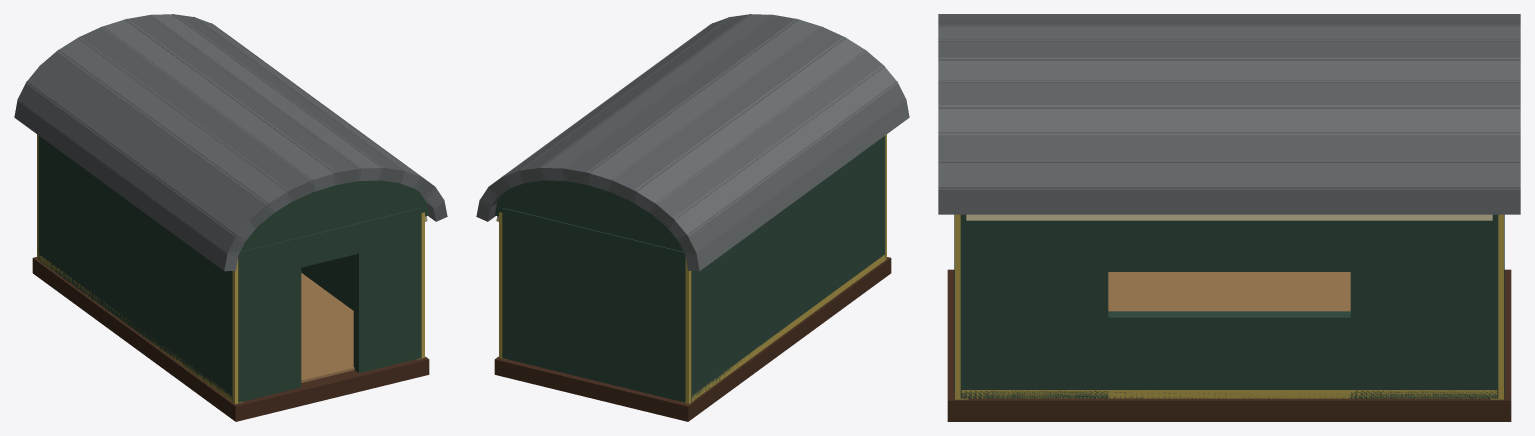
Rendered from kibitka-body.glb.
The picture shows the model from 3 angles, left to right: view 1: azimuth 30°, elevation 25°; view 2: azimuth 150°, elevation 25°; view 3: azimuth 270°, elevation 25°; orthographic projection. The views are drawn at different scales.
Visible parts, largest first — view 1: Крыша, Стены, Днище, Торцы под крышей, Пол, Рейки; view 2: Крыша, Стены, Днище, Торцы под крышей, Рейки; view 3: Крыша, Стены, Днище, Пол, Рейки, Подшивка крыши.
Part boxes in pixels (box(x1,y1,x2,y2)): Крыша: box(14, 14, 447, 271); Стены: box(38, 136, 421, 402); Днище: box(32, 257, 429, 421); Торцы под крышей: box(240, 180, 429, 251); Пол: box(301, 273, 354, 382); Рейки: box(37, 134, 424, 403); Крыша: box(476, 14, 909, 271); Стены: box(502, 136, 885, 402); Днище: box(494, 257, 891, 421); Торцы под крышей: box(494, 180, 683, 251); Рейки: box(499, 134, 886, 403); Крыша: box(938, 14, 1520, 214); Стены: box(954, 214, 1504, 398); Днище: box(947, 269, 1511, 421); Пол: box(1108, 272, 1350, 311); Рейки: box(955, 214, 1503, 399); Подшивка крыши: box(966, 214, 1492, 220).
Size of the model in its own units: 3.81 by 3.72 by 6.2.
